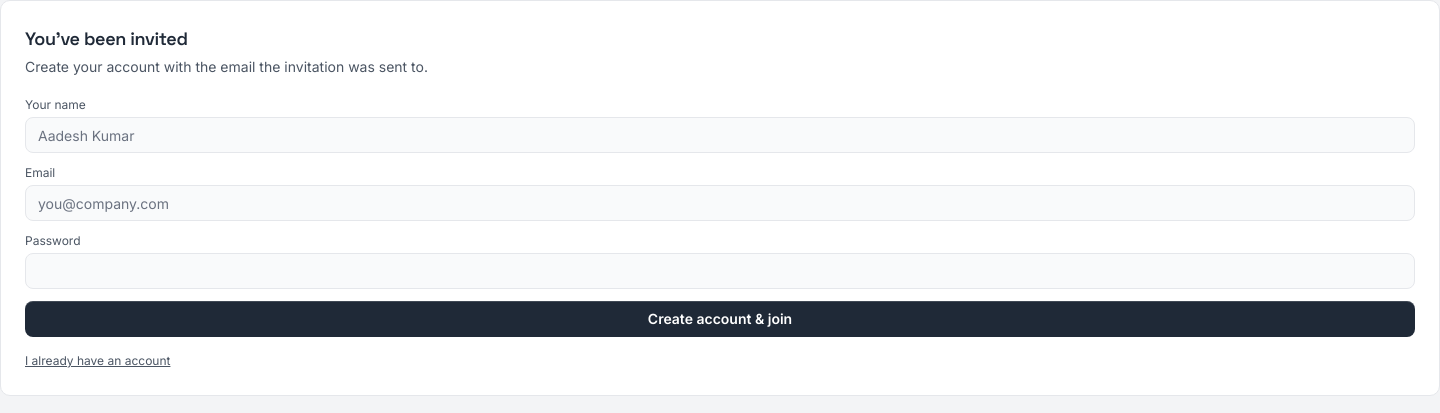
AcceptInvitation › switches to sign-in rather than showing a raw 'already exists' error
Type "client@acme.com" into the field labelled "Email" at (720, 203), box [25,185,1415,221]
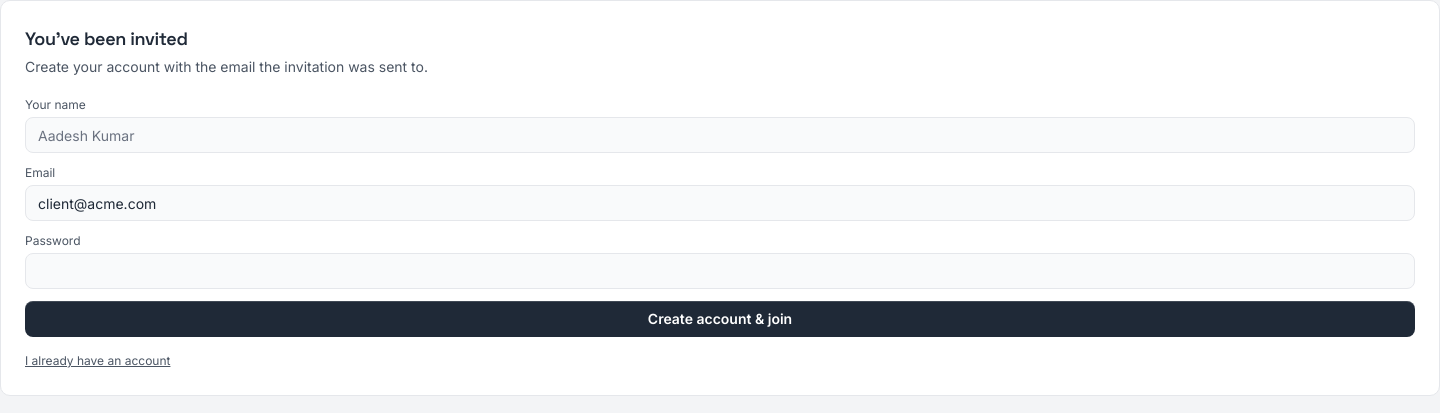
Type "password123" into the password field labelled "Password" at (720, 271), box [25,253,1415,289]
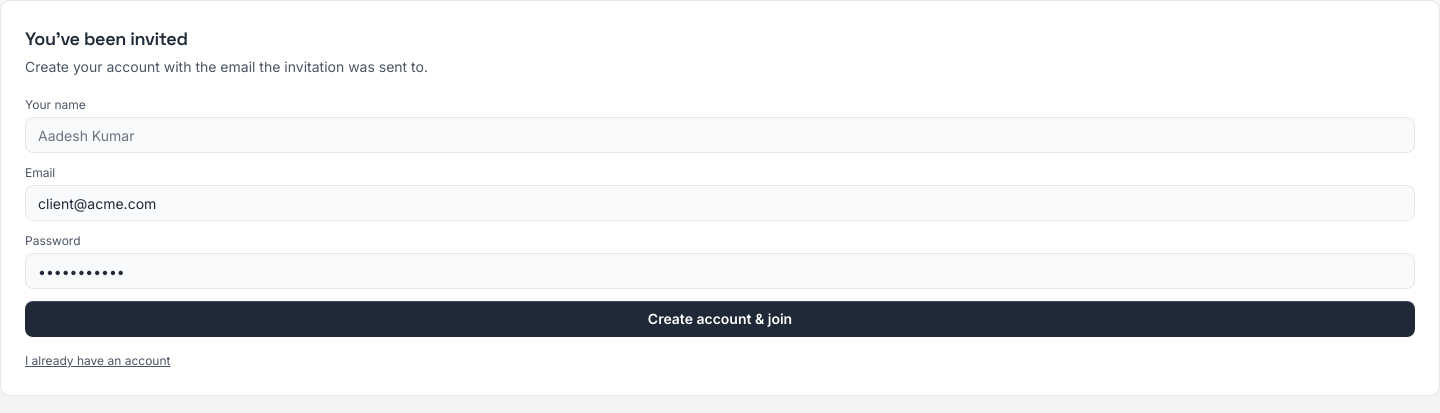
Click the button "Create account & join" at (720, 319), box [25,301,1415,337]
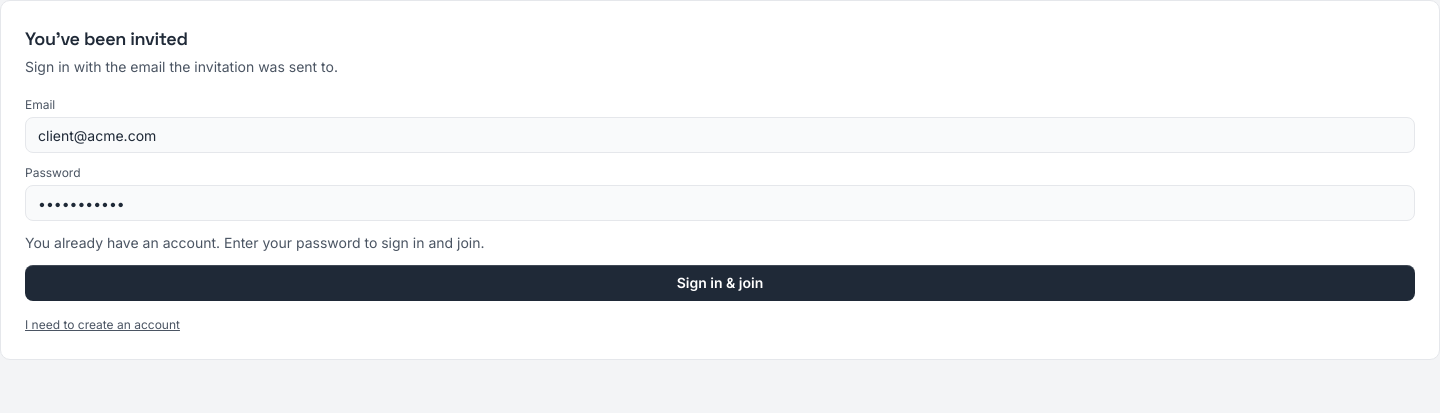
Expected: the text "You already have an account" is shown, [25,234,484,251]
Expected: the button "Sign in & join" is shown, [25,265,1415,301]
